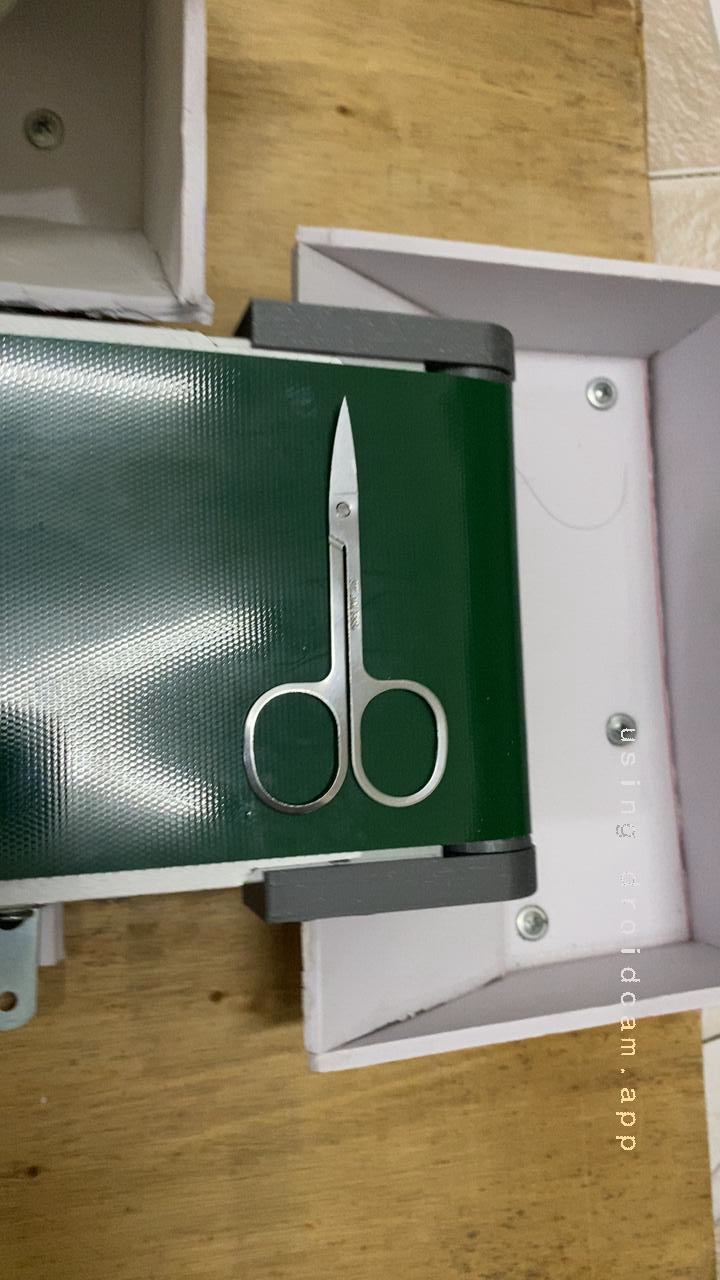scissor: (207, 405, 465, 827)
